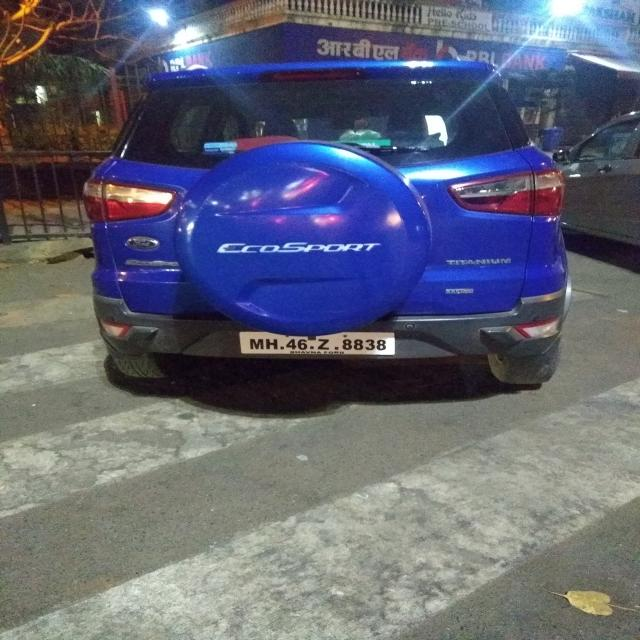Number-Plate: (242, 333, 392, 354)
